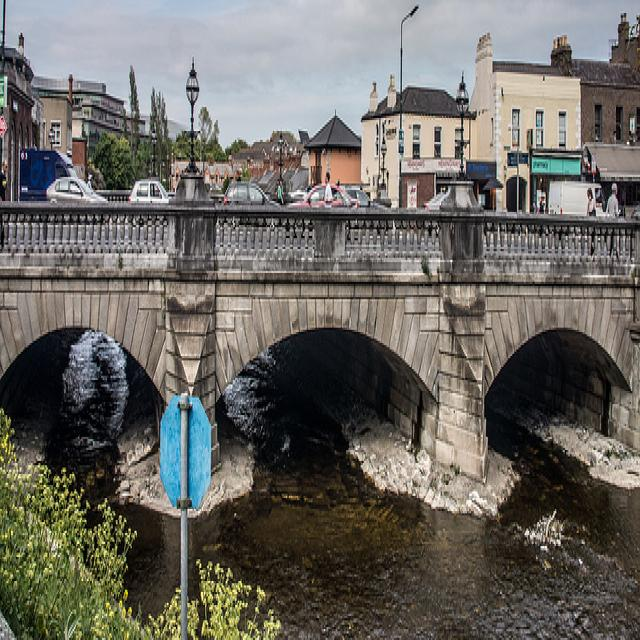Vehicle: (20, 146, 79, 200), (548, 181, 623, 216), (288, 182, 359, 208), (47, 178, 108, 207), (224, 182, 280, 206), (128, 180, 172, 203), (344, 186, 388, 209), (421, 190, 446, 211)
